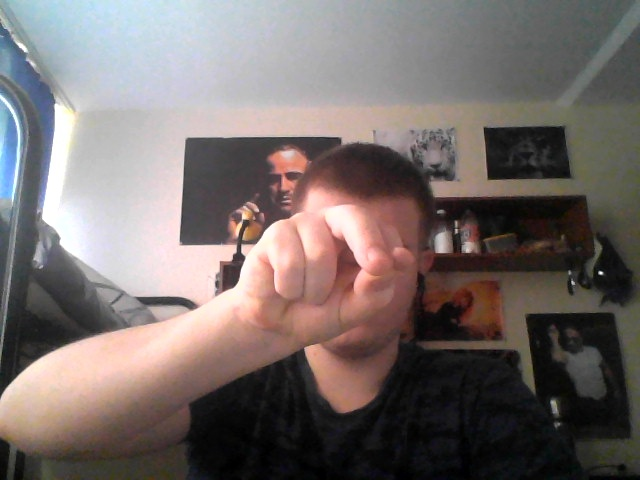no: (236, 200, 417, 346)
